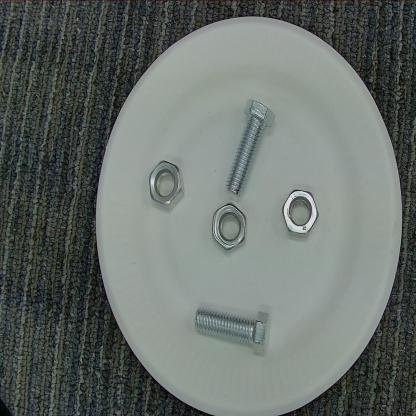FOD: (190, 300, 280, 364), (222, 96, 277, 195), (145, 155, 188, 212), (279, 185, 324, 238), (212, 199, 248, 255)
